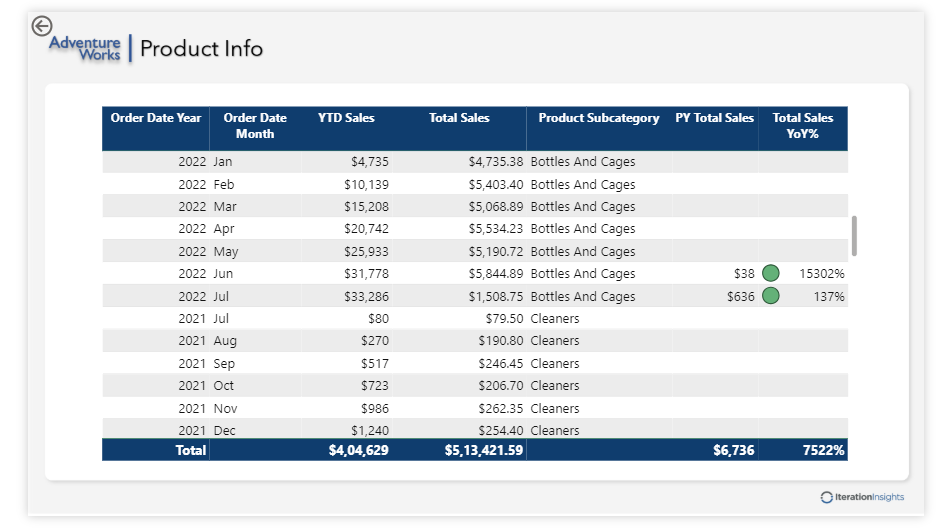

This screenshot's page, from the dashboard's own definition file:
{"tool":"powerbi","page":{"name":"Product Sales Details","canvas":[1280,720],"ordinal":2},"visuals":[{"type":"tableEx","fields":{"Values":["Order Date.Order Date Year","Order Date.Order Date Month","Sales.YTD Sales","Sales.Total Sales 2","Product.Product Hierarchy.Product Subcategory","Sales.PY Total Sales","Sales.Total Sales YoY%"]},"box":[100,130,1090,516],"z":0},{"type":"actionButton","box":[0,0,45,40],"z":1000}]}

Visuals, with their boxes in screenshot pixels (x1, y1, x2, y2), scaled from the page's 1280x720 canvas onto the 951x531 screenshot:
tableEx - Order Date.Order Date Year x Order Date.Order Date Month: [left=74, top=96, right=884, bottom=476]
actionButton: [left=0, top=0, right=33, bottom=30]
